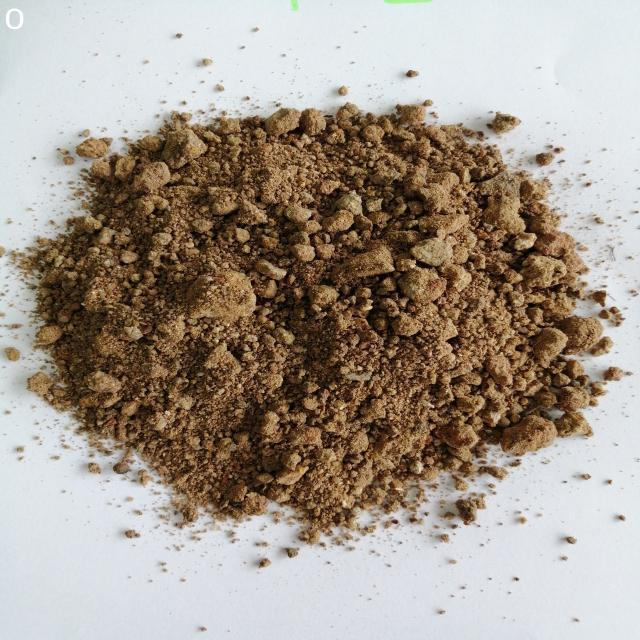soil: (124, 147, 540, 456)
